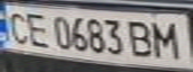0: (48, 12, 72, 52)
3: (103, 16, 127, 56)
6: (66, 14, 90, 53)
8: (84, 15, 106, 55)
B: (124, 18, 160, 58)
C: (0, 8, 33, 45)
E: (21, 10, 51, 48)
M: (148, 18, 184, 61)
